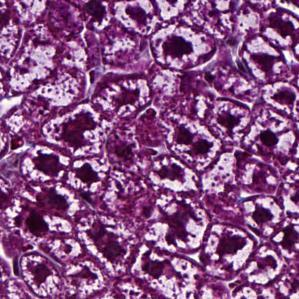inflammation: (149, 27, 216, 69), (20, 141, 67, 183)
